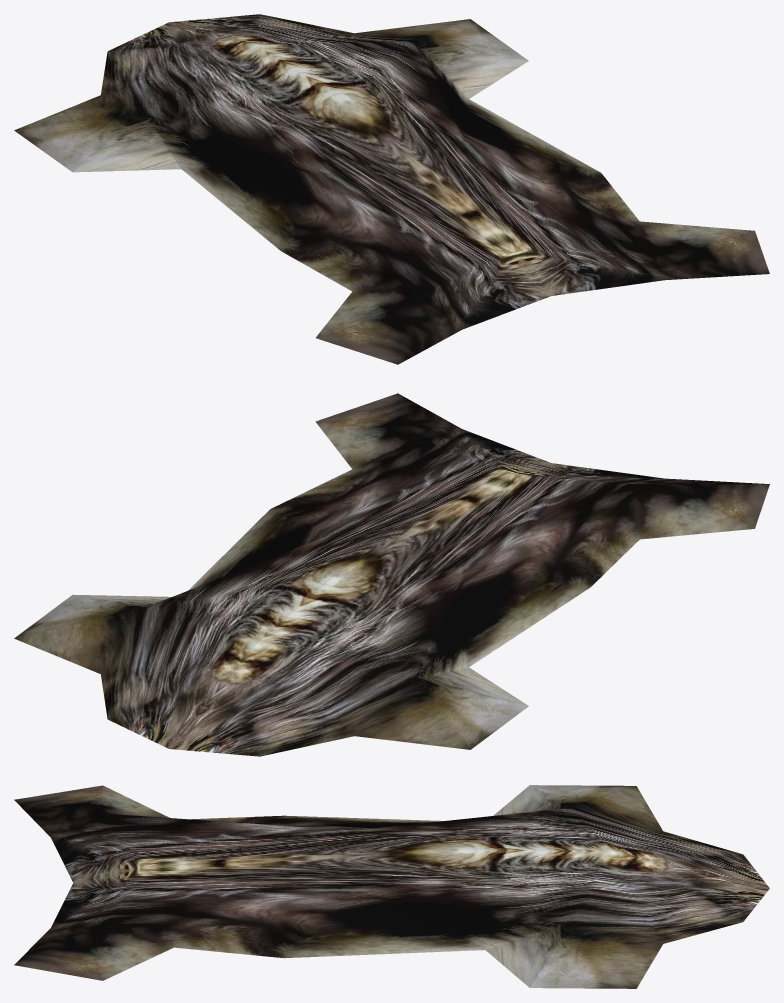
File: ITAT_SHADOWFUR.glb
The picture shows the model from 3 angles, top to bottom: view 1: azimuth 30°, elevation 25°; view 2: azimuth 150°, elevation 25°; view 3: azimuth 270°, elevation 25°; orthographic projection. The views are drawn at different scales.
Parts seen in each view (by area): view 1: ITAT_SHADOWFUR; view 2: ITAT_SHADOWFUR; view 3: ITAT_SHADOWFUR.
Boxes of the visible parts, bbox=[...] form: ITAT_SHADOWFUR: bbox=[14, 14, 769, 364]; ITAT_SHADOWFUR: bbox=[14, 393, 769, 756]; ITAT_SHADOWFUR: bbox=[14, 785, 769, 988].
Size of the model in its own units: 1.08 by 0.1031 by 1.7.
Materials: 1 (1 with a texture image).
